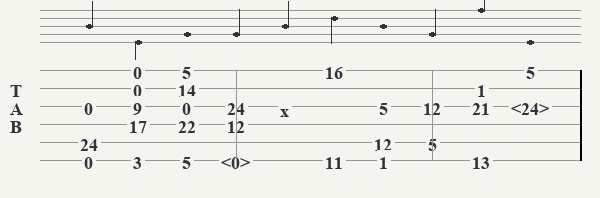0: (84, 152, 97, 168), (84, 98, 97, 114), (133, 80, 146, 96), (133, 62, 146, 78), (182, 98, 195, 114)
1: (379, 152, 392, 168), (477, 80, 490, 96)
11: (325, 152, 347, 168)
12: (227, 116, 249, 132), (374, 134, 396, 150), (423, 98, 445, 114)
13: (472, 152, 494, 168)
14: (178, 80, 200, 96)
16: (325, 62, 347, 78)
17: (129, 116, 151, 132)
21: (472, 98, 494, 114)
22: (178, 116, 200, 132)
24: (80, 134, 102, 150), (227, 98, 249, 114)
3: (133, 152, 146, 168)
5: (182, 152, 195, 168), (182, 62, 195, 78), (379, 98, 392, 114), (428, 134, 441, 150), (526, 62, 539, 78)
9: (133, 98, 146, 114)
harmonic: (511, 98, 553, 114), (221, 152, 254, 168)
x: (280, 100, 293, 112)
